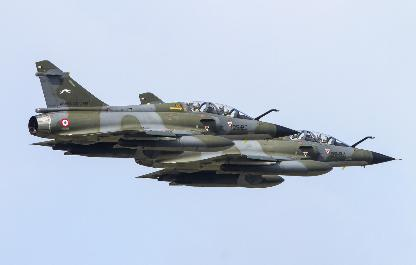Mirage2000: (28, 60, 306, 159), (134, 92, 402, 187)
